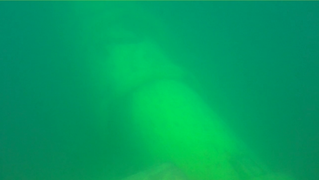2: (93, 24, 145, 62)
pipe: (68, 1, 293, 179)
